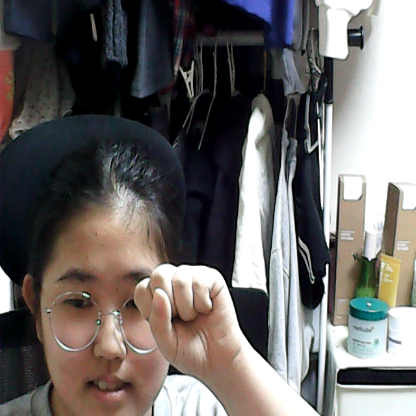Finger_0: (125, 252, 252, 391)
